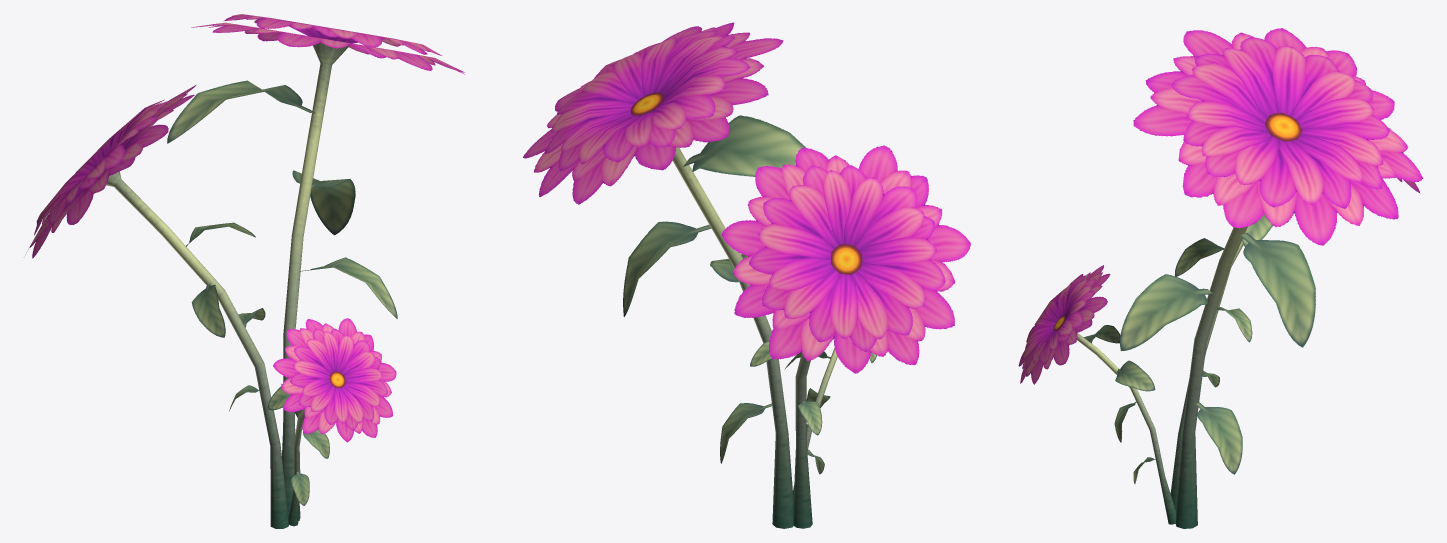
The model's file is VEG0310029.fbx.
3 views of the same model, side by side, from view 1: azimuth 30°, elevation 25°; view 2: azimuth 150°, elevation 25°; view 3: azimuth 270°, elevation 25° (orthographic). The views are drawn at different scales.
Parts seen in each view (by area): view 1: smVEG0310029; view 2: smVEG0310029; view 3: smVEG0310029.
Part boxes in pixels (x1=…): smVEG0310029: x1=25, y1=14, x2=464, y2=528; smVEG0310029: x1=523, y1=22, x2=970, y2=528; smVEG0310029: x1=1018, y1=28, x2=1423, y2=528.
Bounding box in the file's own units: 48.56 × 52.11 × 39.83.
Materials: 1 (1 with a texture image).
